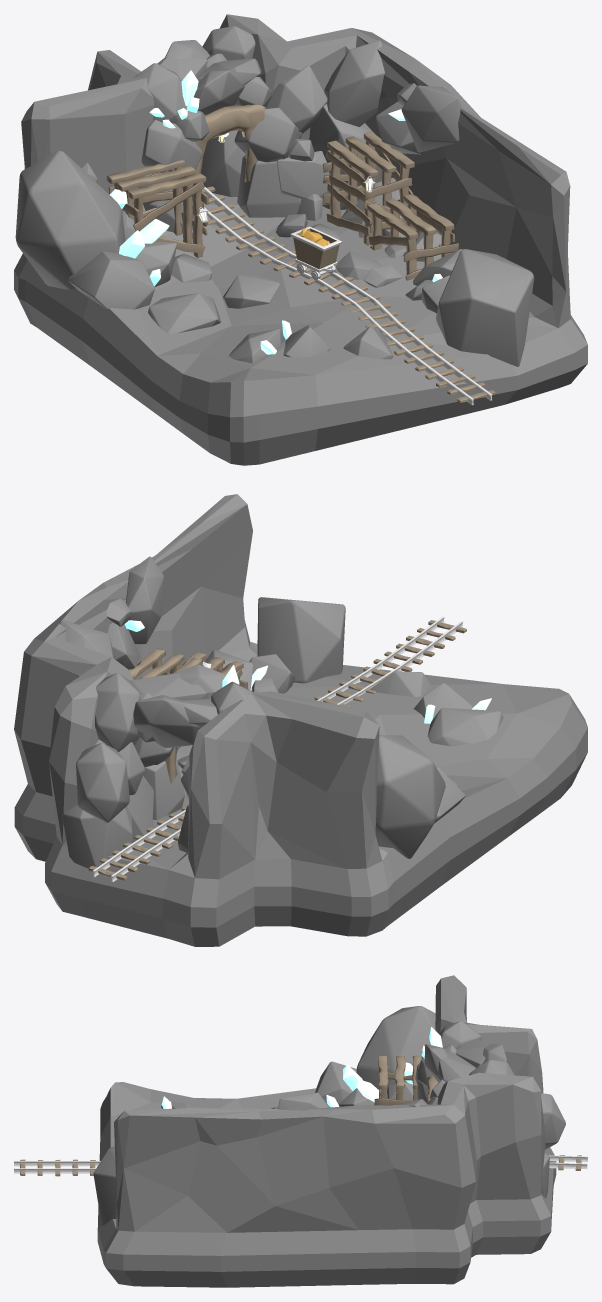
Rendered from low_poly_mine_cave_old.glb.
3 views of the same model, one above another, from view 1: azimuth 30°, elevation 25°; view 2: azimuth 150°, elevation 25°; view 3: azimuth 270°, elevation 25° (orthographic). The views are drawn at different scales.
Visible parts, largest first — view 1: Plane_16, Rcok1.001_17, Rock3.032_85, Rail_12, Wood.001_20, Wood.004_53, Wood.002_52, Rock3.022_75, Rock3.001_19, Rock3.020_72, Rock2.003_26, Rock3.023_76 (+28 smaller); view 2: Plane_16, Rcok1.001_17, Rock3.032_85, Rail_12, Rcok1.014_61, Rock2.007_60, Rcok1.013_41, Rcok1.012_40, Rock3.020_72, Rock3.012_59, Rock2.003_26, Rock3.006_34 (+14 smaller); view 3: Plane_16, Rcok1.001_17, Rail_12, Wood.004_53, Rock3.032_85, Rock3.001_19, Rcok1.014_61, Rcok1.008_33, Rock3.006_34, Rock3.020_72, Rock3.007_42, Rcok1.006_31 (+1 smaller).
Boxes of the visible parts, x1,y1,x2,y2 form: Plane_16: (14,14,587,465); Rcok1.001_17: (15,150,125,289); Rock3.032_85: (436,249,534,366); Rail_12: (202,182,495,405); Wood.001_20: (322,131,414,245); Wood.004_53: (106,160,208,257); Wood.002_52: (367,194,458,280); Rock3.022_75: (324,40,384,126); Rock3.001_19: (68,251,154,309); Rock3.020_72: (401,85,461,152); Rock2.003_26: (237,155,300,217); Rock3.023_76: (265,65,327,133); Plane_16: (14,494,587,946); Rcok1.001_17: (375,735,445,858); Rock3.032_85: (257,597,345,683); Rail_12: (88,616,466,882); Rcok1.014_61: (76,743,129,823); Rock2.007_60: (62,804,132,868); Rcok1.013_41: (95,673,140,751); Rcok1.012_40: (133,695,201,748); Rock3.020_72: (126,556,164,644); Rock3.012_59: (427,708,503,746); Rock2.003_26: (143,756,184,819); Rock3.006_34: (131,672,206,698); Plane_16: (97,975,556,1287); Rcok1.001_17: (356,1006,435,1090); Rail_12: (14,1155,587,1176); Wood.004_53: (374,1055,421,1105); Rock3.032_85: (93,1146,116,1226); Rock3.001_19: (315,1061,356,1107); Rcok1.014_61: (541,1093,565,1149); Rcok1.008_33: (439,1021,481,1049); Rock3.006_34: (437,1051,475,1082); Rock3.020_72: (278,1092,329,1110); Rock3.007_42: (455,1039,489,1067); Rcok1.006_31: (424,1044,448,1082).
Bounding box in the file's own units: 42.94 × 22.89 × 65.75.
